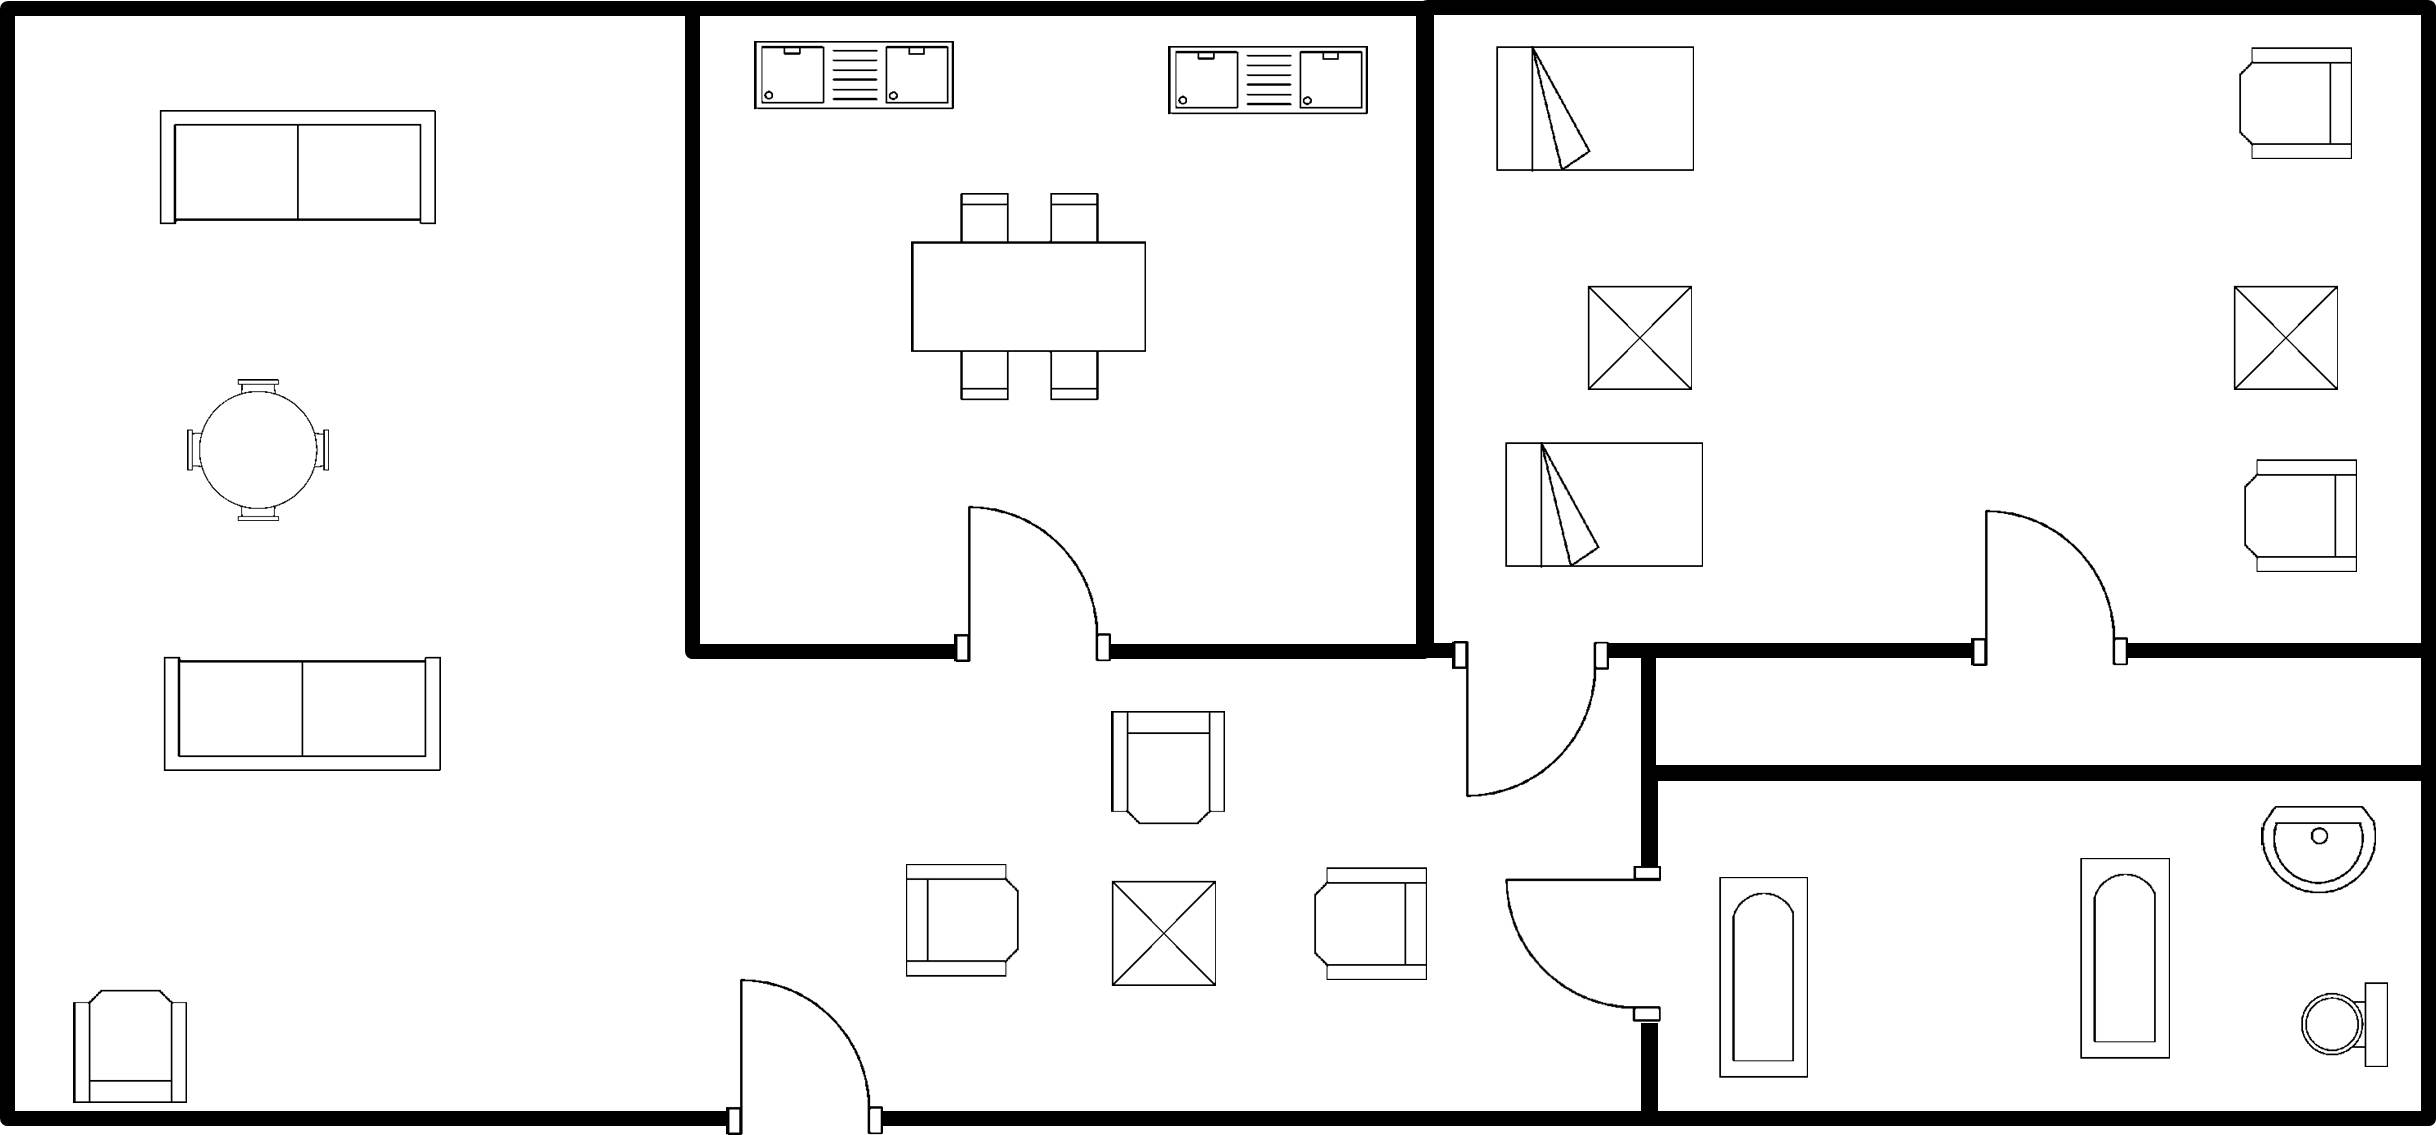armchair: (2230, 444, 2373, 591), (1094, 696, 1237, 837), (1296, 856, 1442, 994), (2225, 32, 2368, 172), (887, 853, 1032, 989), (51, 980, 202, 1108)
bed: (1485, 429, 1713, 586), (1482, 32, 1711, 187)
coffee_table: (1577, 268, 1706, 405), (1099, 870, 1232, 999), (2221, 270, 2349, 401)
dining_table: (896, 180, 1168, 420)
large_sink: (2292, 968, 2397, 1086)
large_sofa: (142, 646, 458, 791), (144, 101, 449, 244)
round_table: (173, 363, 342, 537)
small_sink: (2240, 791, 2394, 908)
tub: (1706, 860, 1825, 1094), (2063, 844, 2185, 1074)
twin_sink: (733, 32, 965, 130), (1151, 37, 1378, 125)
